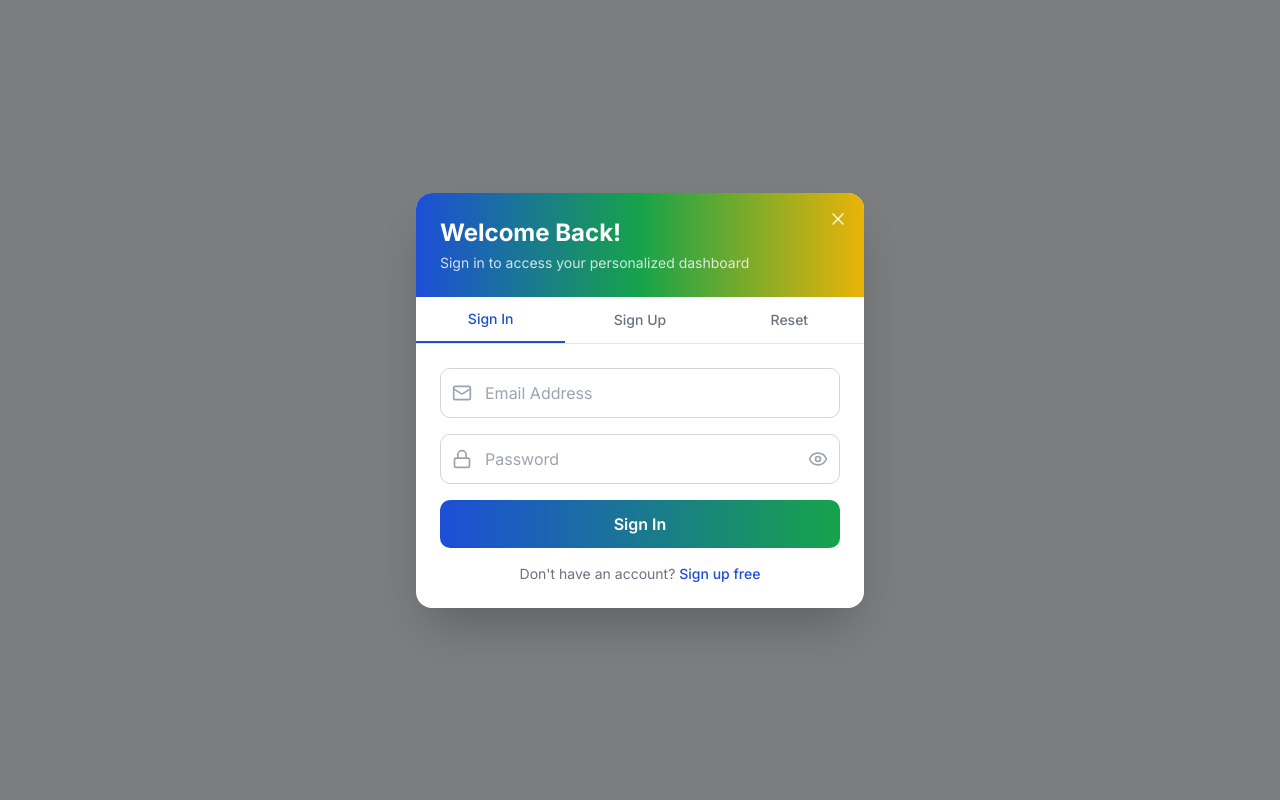
AuthModal MFA flow › shows retryable error on invalid MFA code and allows another attempt
The width and height of the screenshot is (1280, 800).
Step 1. Type "student@example.com" into the field with placeholder "Email Address" → [640, 392], box [440, 368, 840, 418]
Step 2. Type "password123" into the password field with placeholder "Password" → [640, 458], box [440, 434, 840, 484]
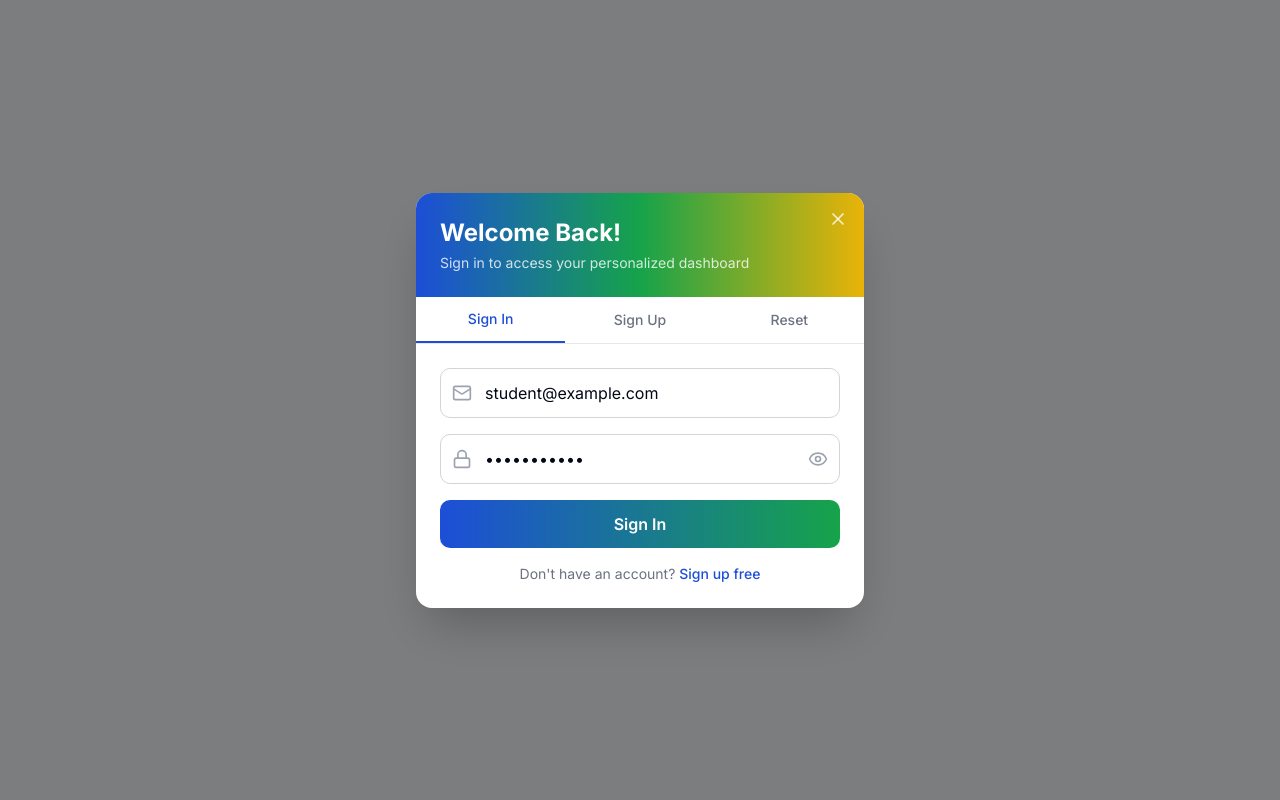
Step 3. Click the 2nd button "Sign In" → [640, 524], box [440, 500, 840, 548]
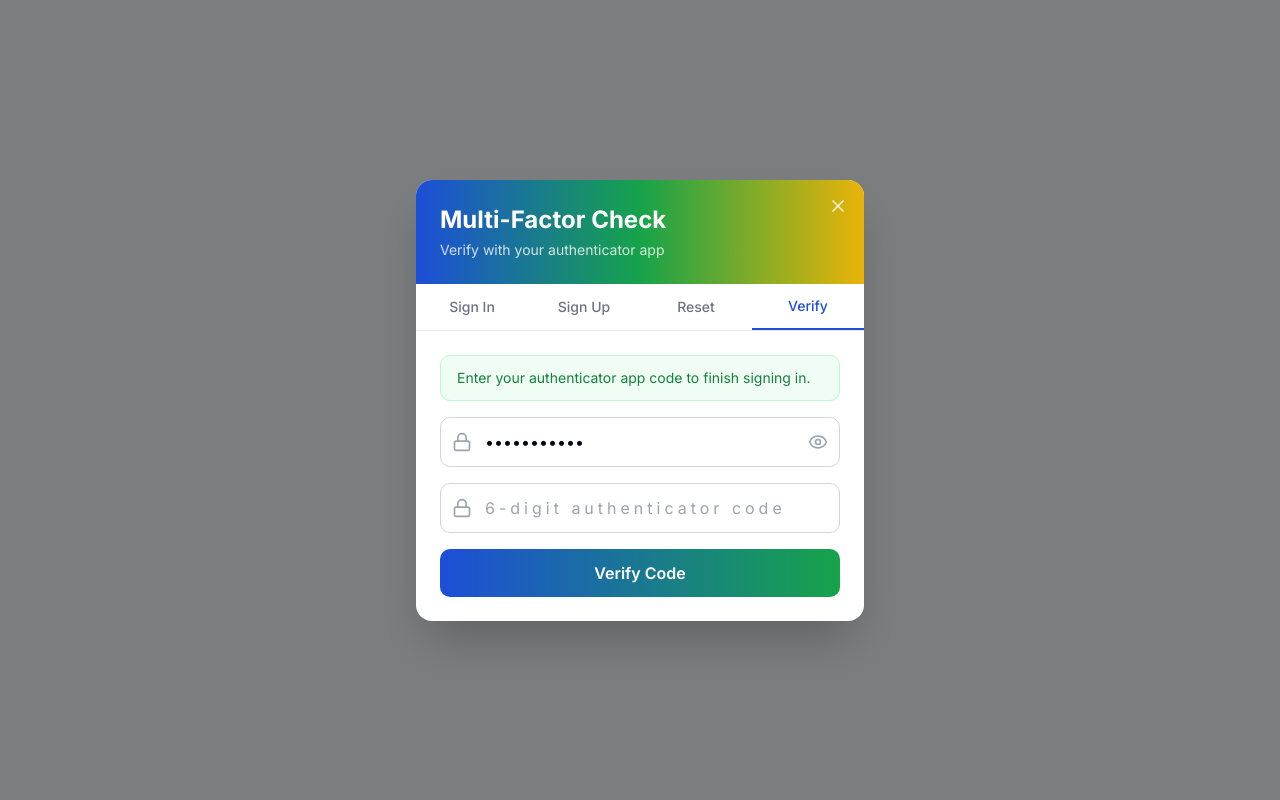
Now the field with placeholder "6-digit authenticator code" is shown
Step 4. Type "111111" into the field with placeholder "6-digit authenticator code" → [640, 508], box [440, 482, 840, 532]
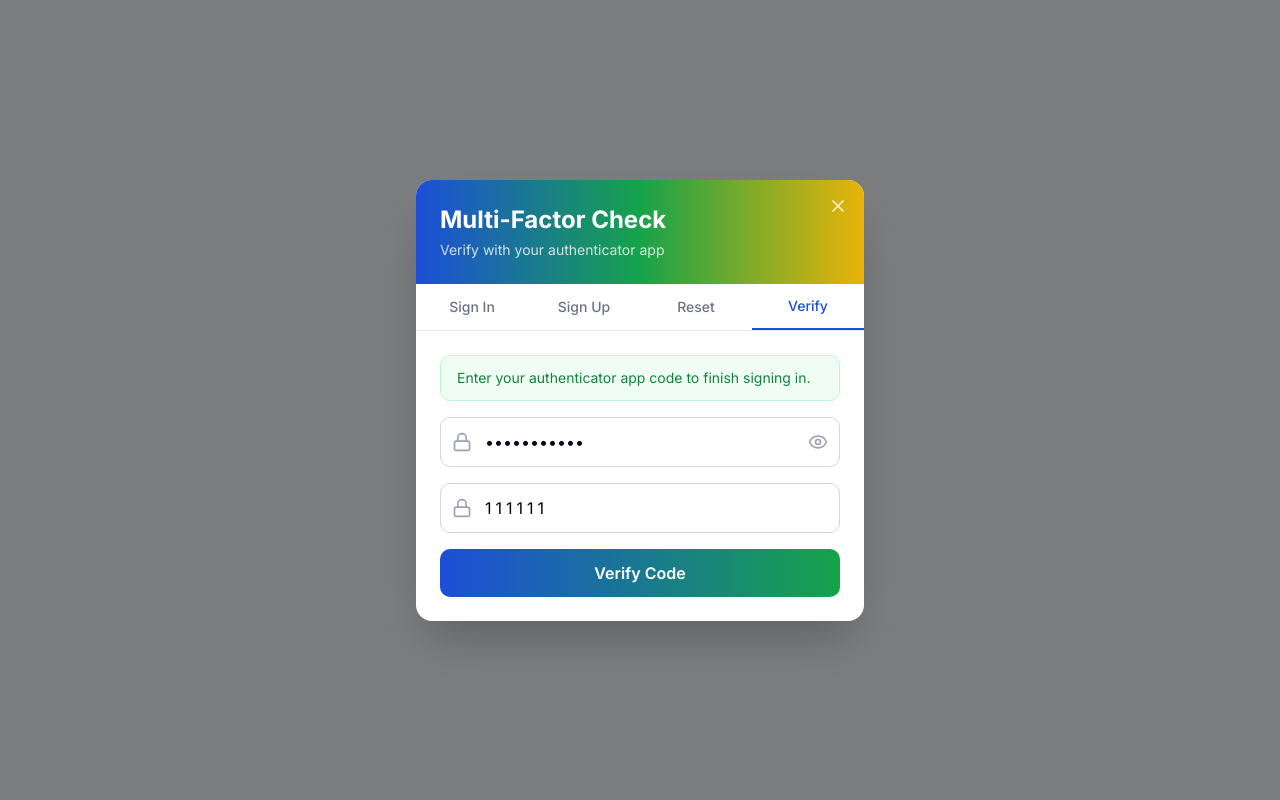
Step 5. Click the button "Verify Code" → [640, 572], box [440, 548, 840, 596]
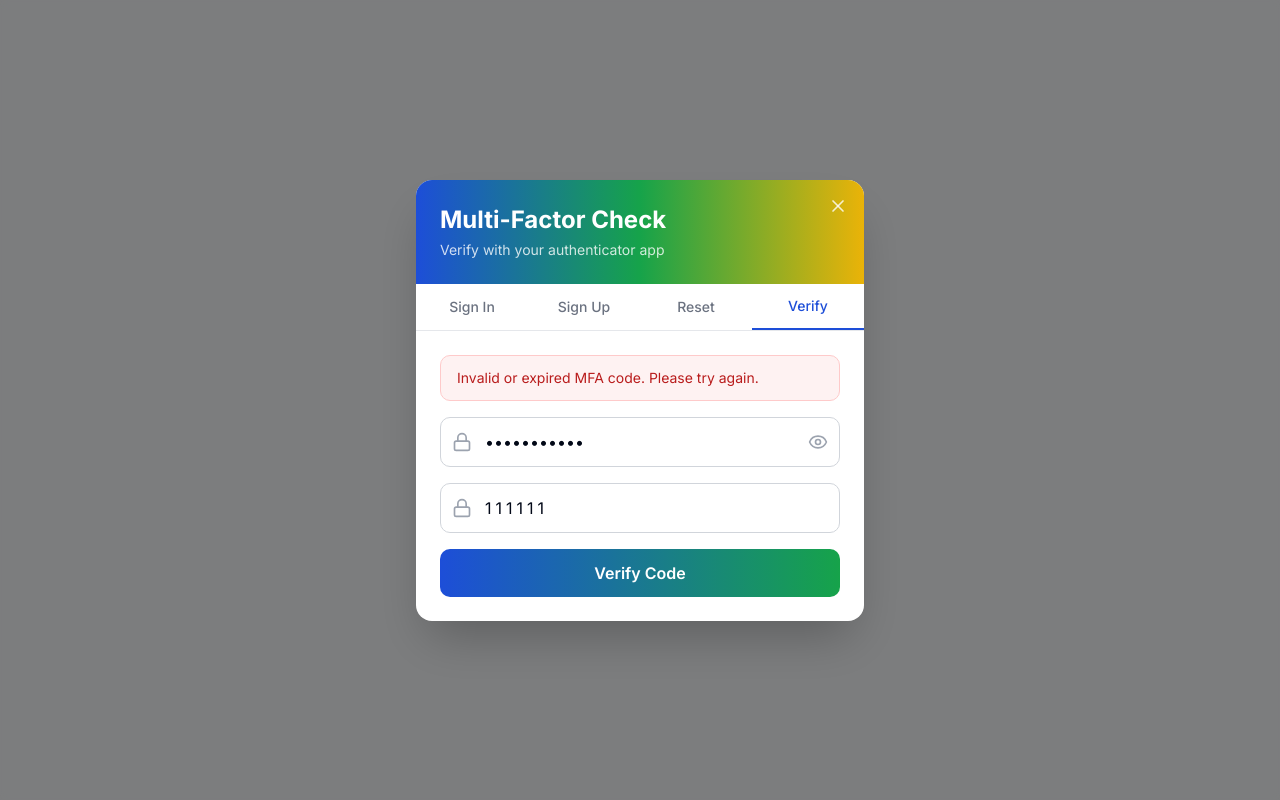
Now the text "Invalid or expired MFA code. Please try again." is shown, box [440, 354, 840, 400]
Step 6. Replace the text in the field with placeholder "6-digit authenticator code" with "222222" → [640, 508], box [440, 482, 840, 532]
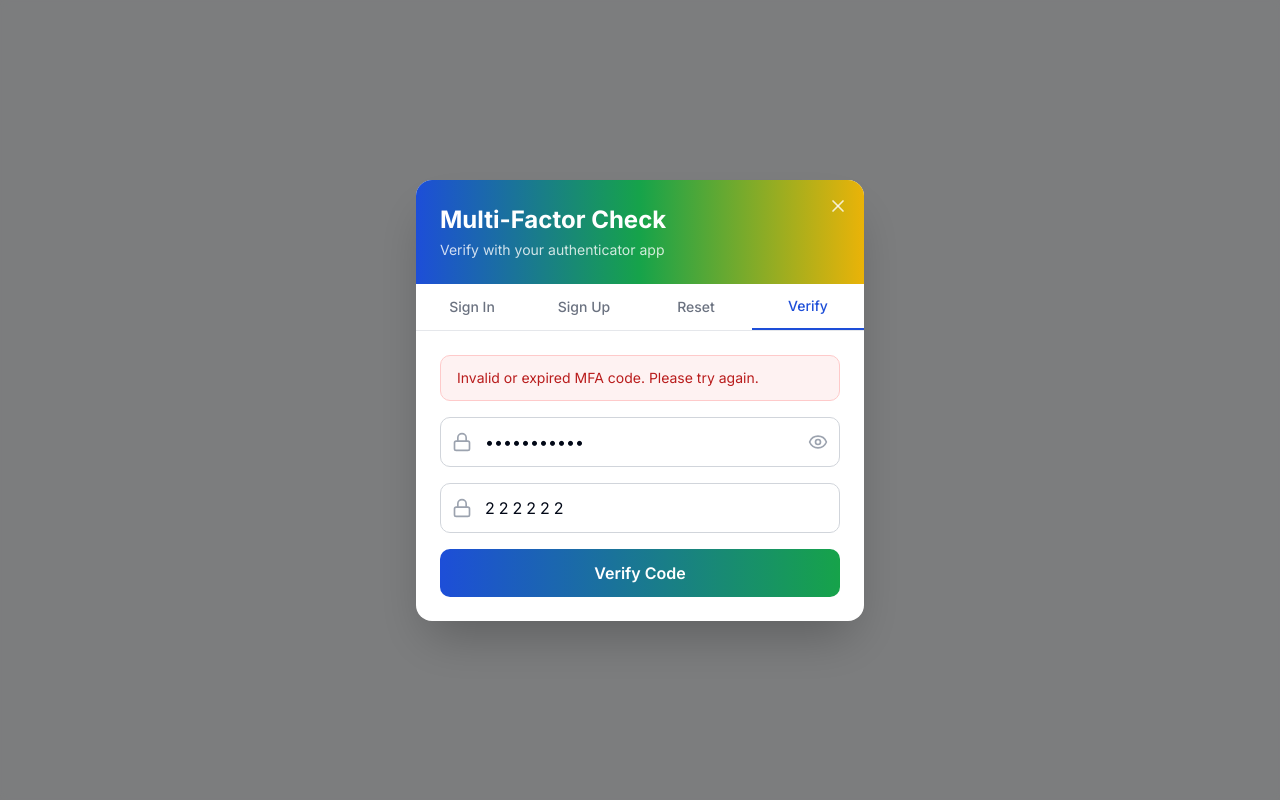
Step 7. Click the button "Verify Code" → [640, 572], box [440, 548, 840, 596]
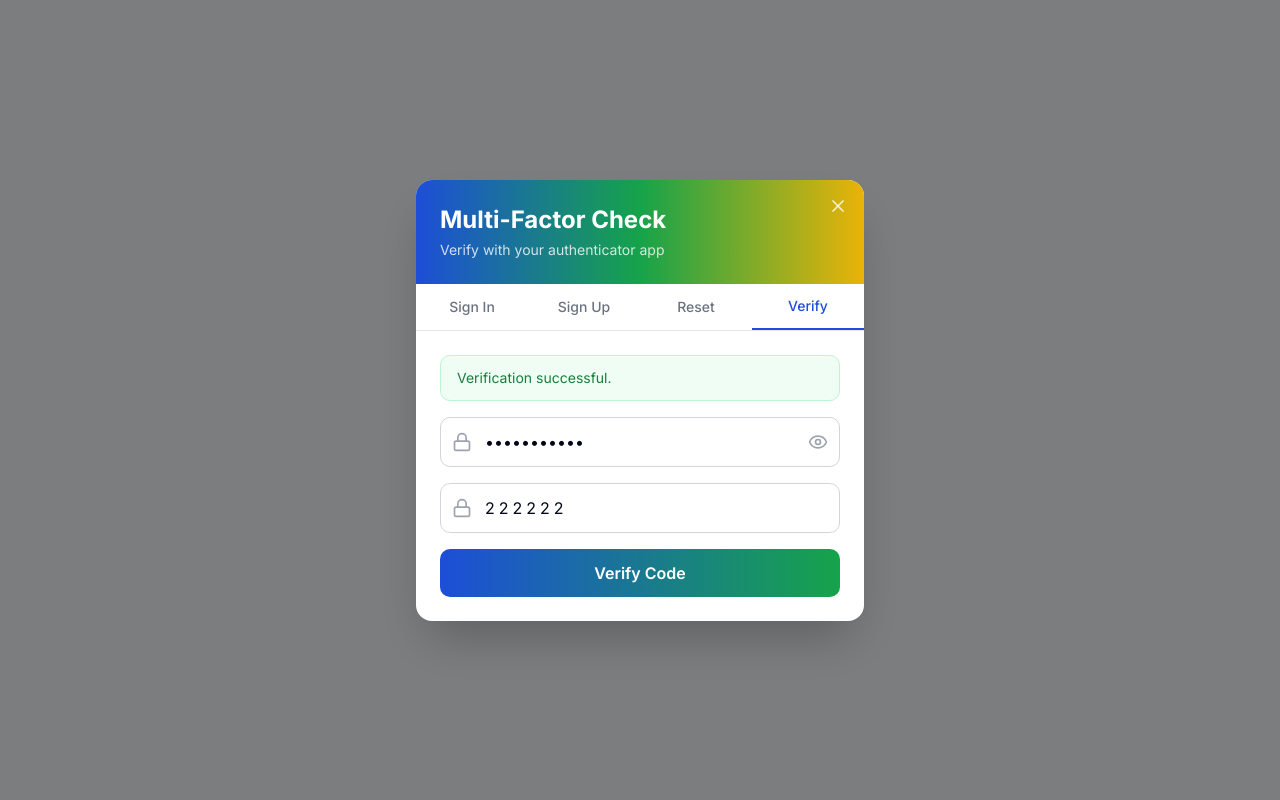
Now the text "Verification successful." is shown, box [440, 354, 840, 400]
